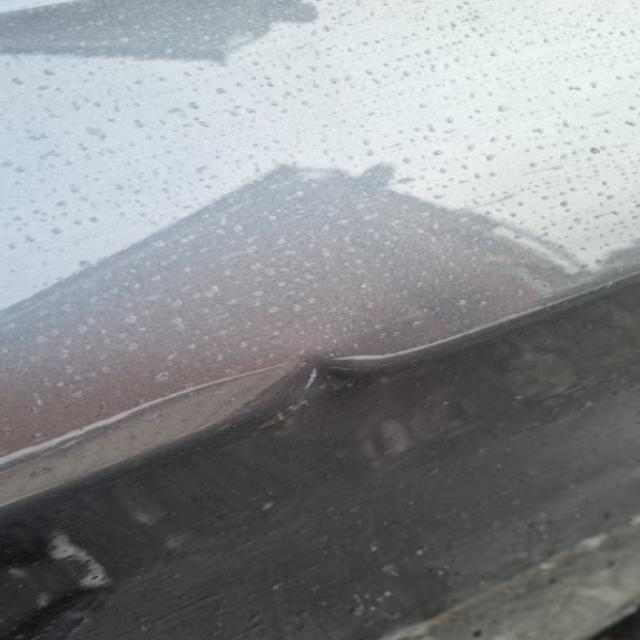dents: (244, 344, 438, 458)
